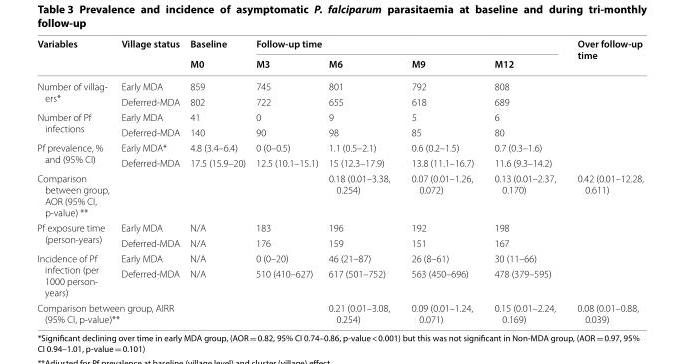table: (36, 36, 643, 324)
table column: (400, 36, 483, 324), (483, 36, 565, 324), (36, 36, 114, 324), (322, 36, 400, 324), (565, 36, 643, 324), (250, 36, 322, 324), (114, 36, 184, 324), (184, 36, 250, 324)
table column header: (36, 36, 643, 74)
table row: (36, 170, 643, 219), (36, 265, 643, 299), (36, 299, 643, 324), (36, 52, 643, 74), (36, 74, 643, 93), (36, 36, 643, 52), (36, 93, 643, 109), (36, 139, 643, 155), (36, 219, 643, 235), (36, 109, 643, 124), (36, 124, 643, 139), (36, 155, 643, 170), (36, 235, 643, 250), (36, 250, 643, 265)
table spanning cell: (250, 36, 565, 52), (36, 250, 114, 299), (36, 299, 184, 324), (36, 36, 114, 74), (565, 36, 643, 74), (36, 74, 114, 109), (114, 36, 184, 74), (184, 36, 250, 74), (36, 139, 114, 170), (36, 219, 114, 250), (36, 109, 114, 139)
